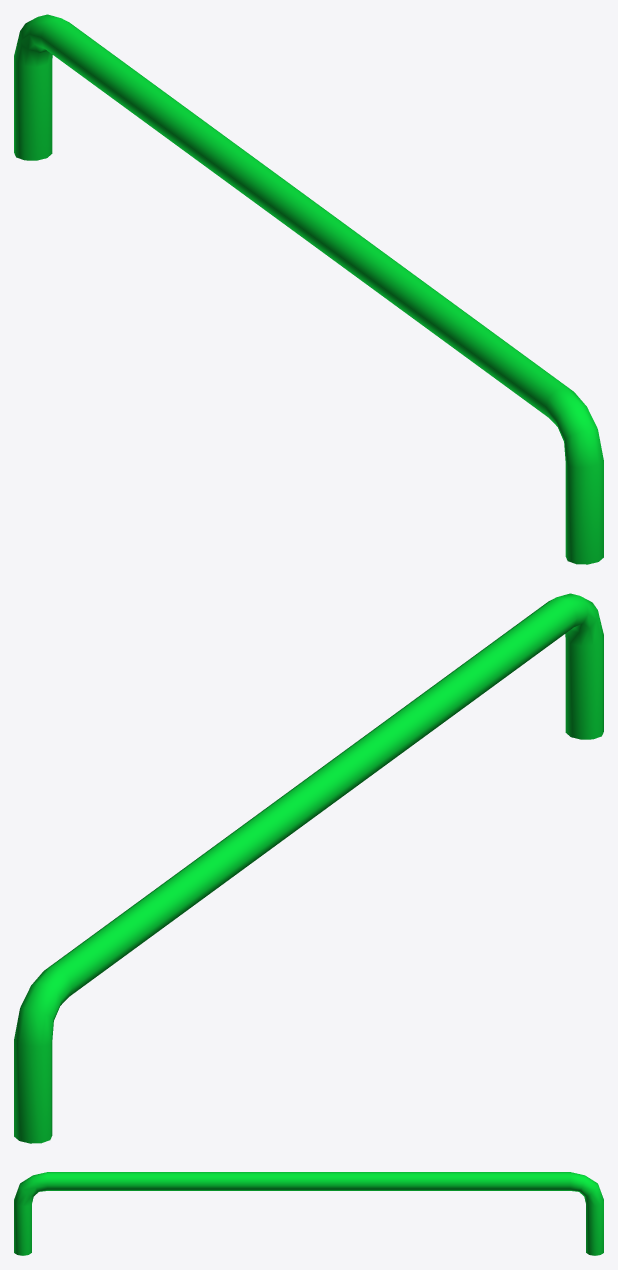
Rendered from Fence_01_A.fbx.
3 views of the same model, one above another, from view 1: azimuth 30°, elevation 25°; view 2: azimuth 150°, elevation 25°; view 3: azimuth 270°, elevation 25° (orthographic). The views are drawn at different scales.
Parts seen in each view (by area): view 1: Fence_01_A; view 2: Fence_01_A; view 3: Fence_01_A.
Boxes of the visible parts, box(x1,y1,x2,y2) form: Fence_01_A: box(14, 14, 603, 564); Fence_01_A: box(14, 593, 603, 1143); Fence_01_A: box(14, 1172, 603, 1255).
Bounding box in the file's own units: 0.5433 × 2.28 × 15.62.
